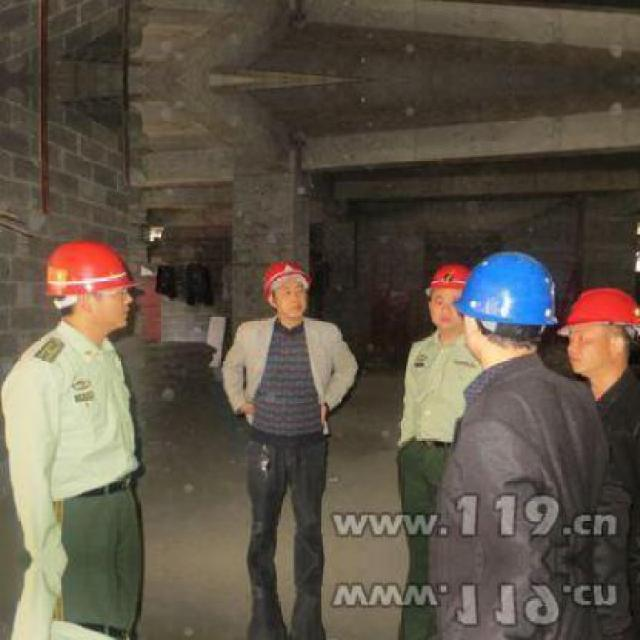helmet: (458, 252, 557, 363), (41, 234, 137, 334), (551, 282, 637, 373), (419, 262, 473, 329), (259, 255, 313, 320)
